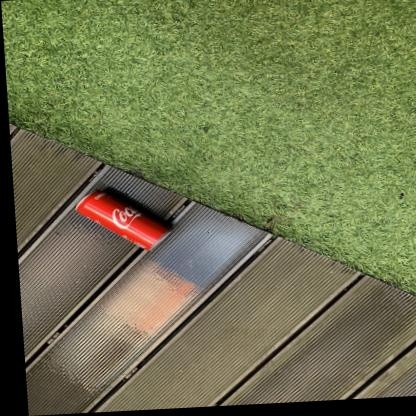trash: (76, 192, 168, 248)
